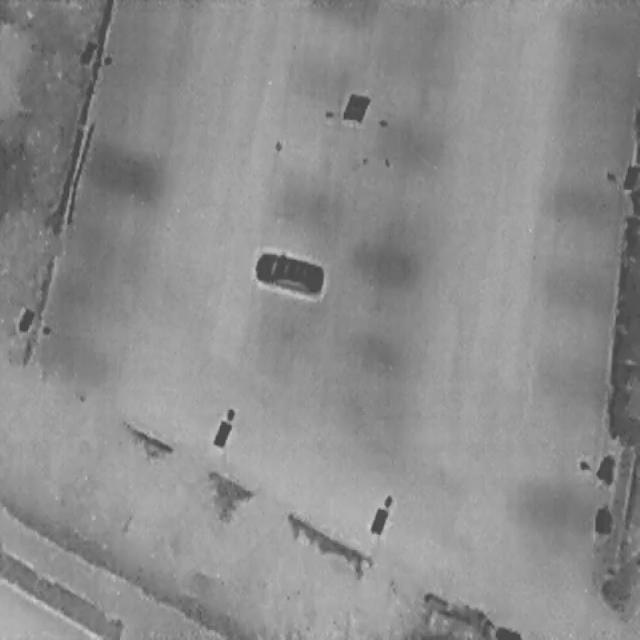Car: (252, 245, 325, 297)
